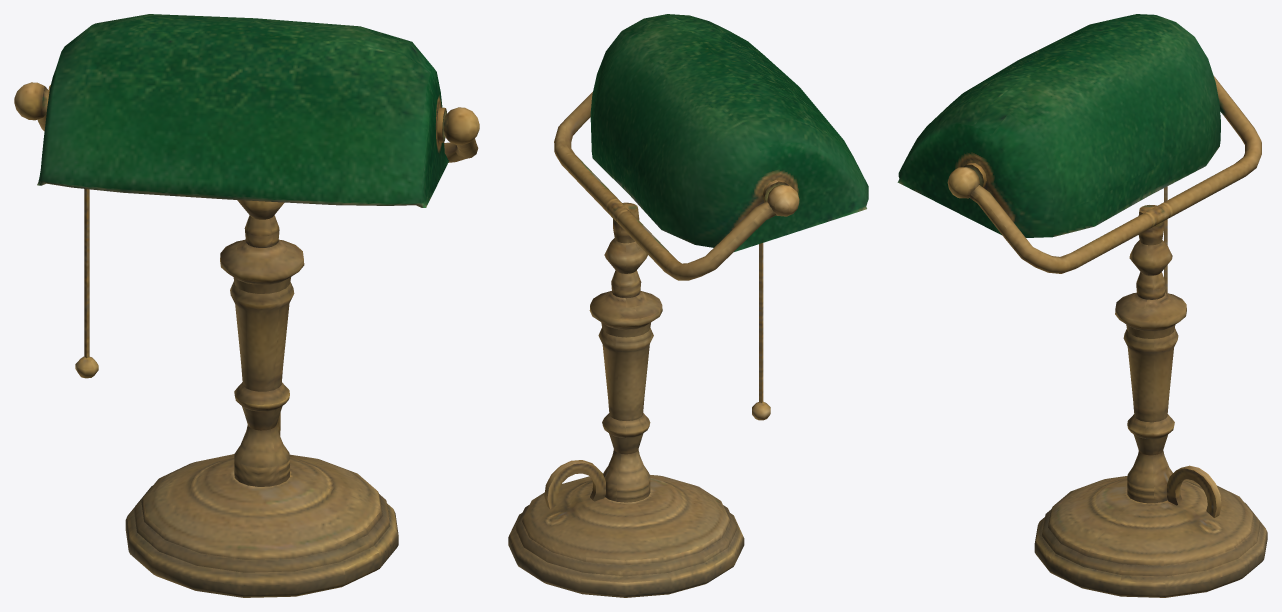
Rendered from DeskLamp.fbx.
The picture shows the model from 3 angles, left to right: view 1: azimuth 30°, elevation 25°; view 2: azimuth 150°, elevation 25°; view 3: azimuth 270°, elevation 25°; orthographic projection. The views are drawn at different scales.
Visible parts, largest first — view 1: DeskLamp_Low; view 2: DeskLamp_Low; view 3: DeskLamp_Low.
Boxes of the visible parts, box(x1,y1,x2,y2) form: DeskLamp_Low: box(14, 14, 479, 597); DeskLamp_Low: box(508, 14, 868, 597); DeskLamp_Low: box(897, 14, 1267, 597).
Bounding box in the file's own units: 0.8651 × 1.15 × 0.8164.
